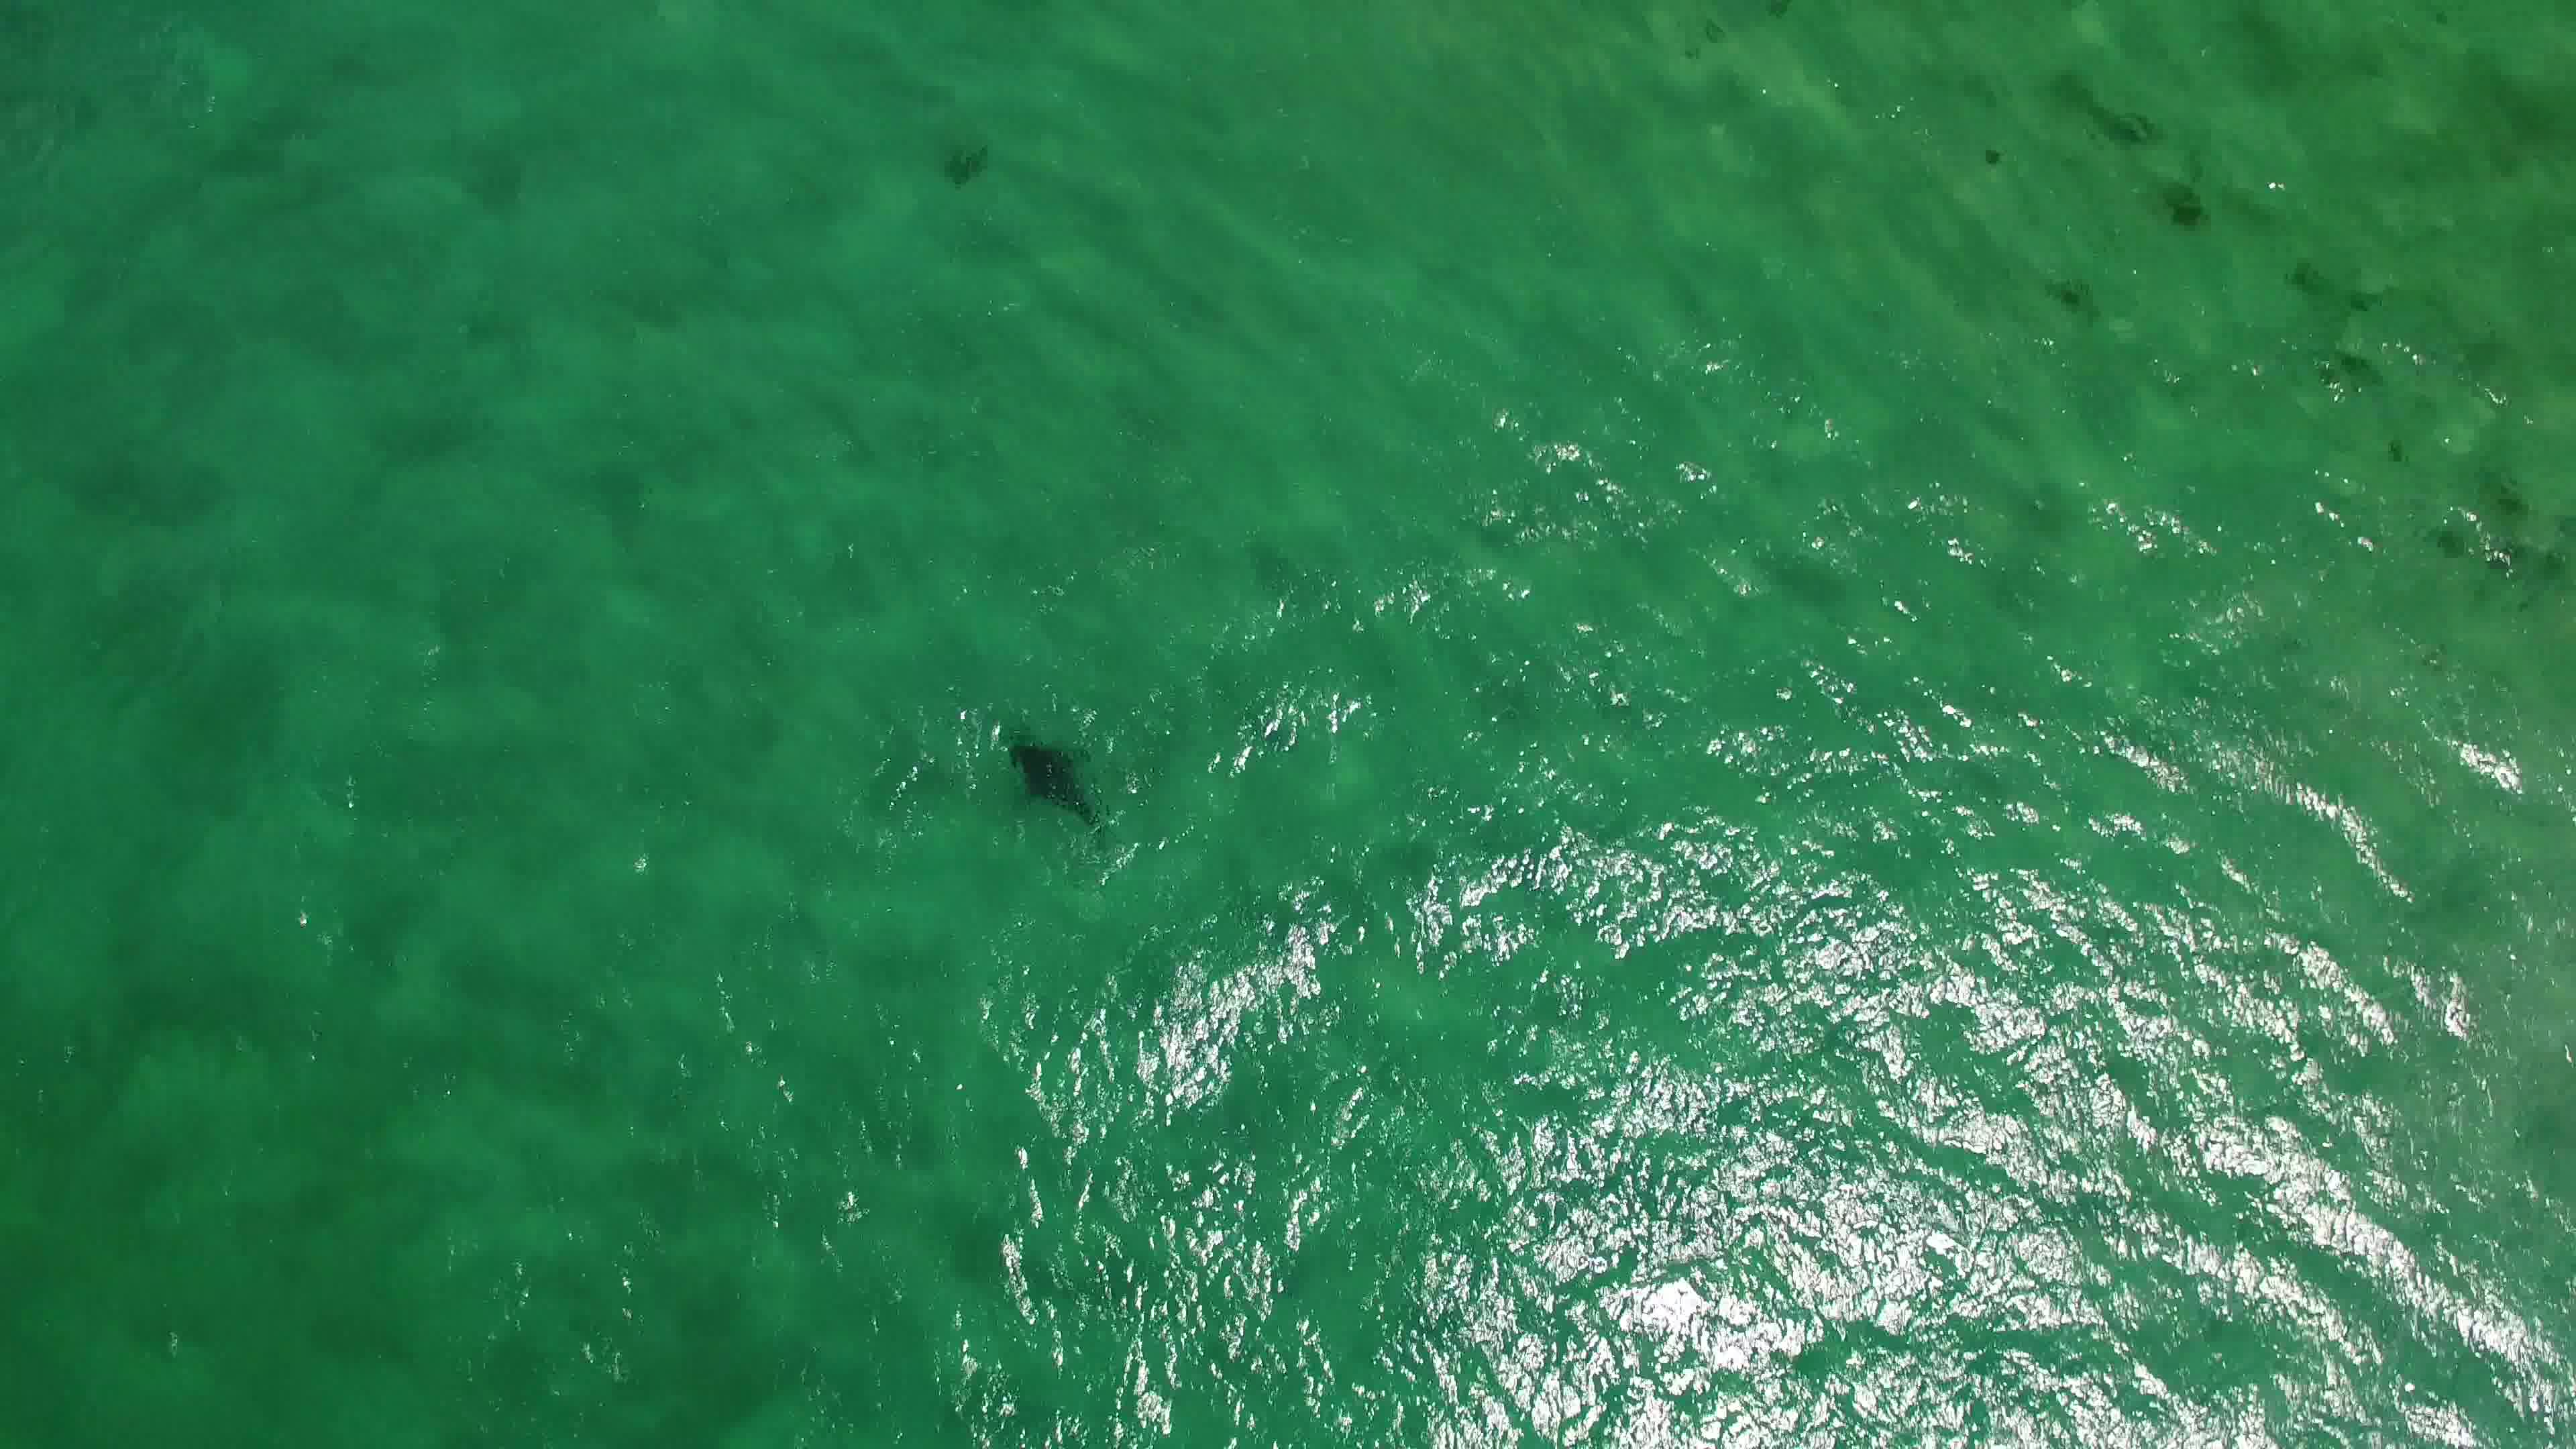shark: (991, 717, 1118, 846)
